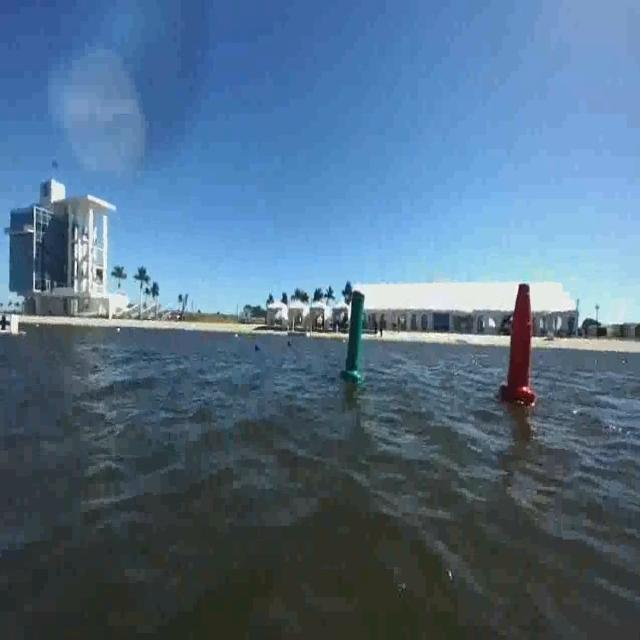green-column-buoy: (342, 292, 369, 383)
red-column-buoy: (501, 282, 539, 406)
